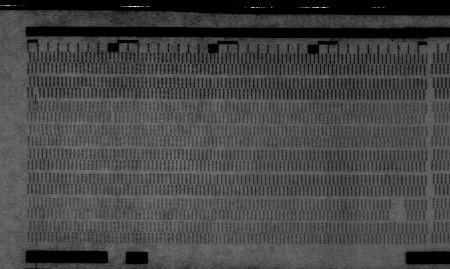Oblique printing: (387, 199, 409, 223), (31, 87, 41, 102)
